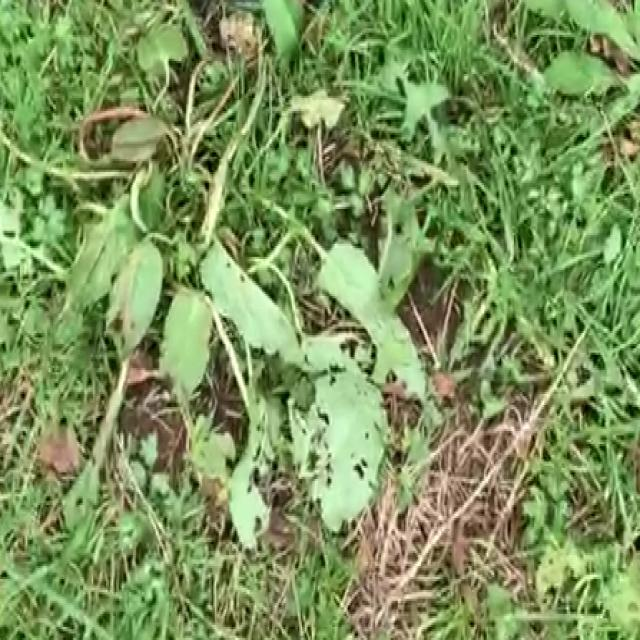organic waste: (61, 0, 439, 620)
